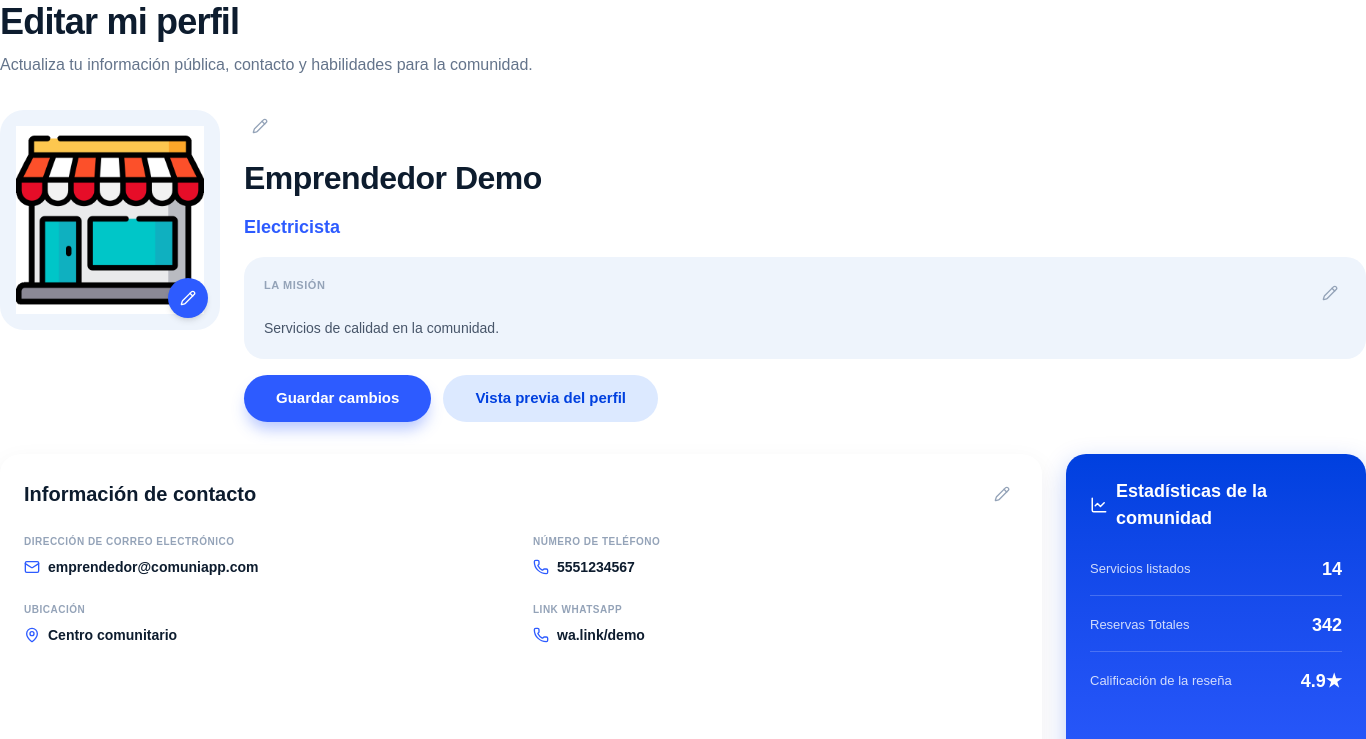
it: EmprendedorEditarPerfil › guarda cambios y muestra modal de éxito
The image size is (1366, 739).
Click the button "Guardar cambios": (338, 398) x1=244 y1=375 x2=431 y2=422
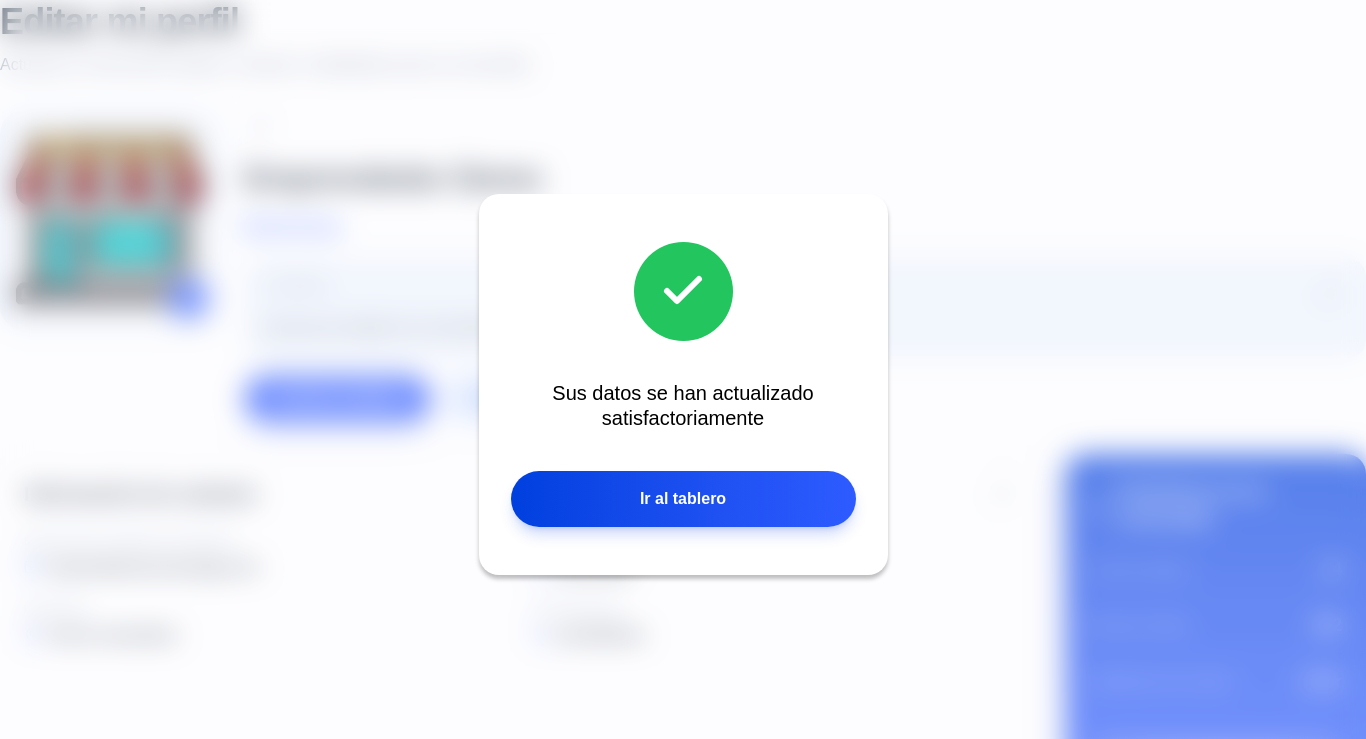
expect the text "Sus datos se han actualizado satisfactoriamente" is shown: met, box x1=552 y1=382 x2=814 y2=428
